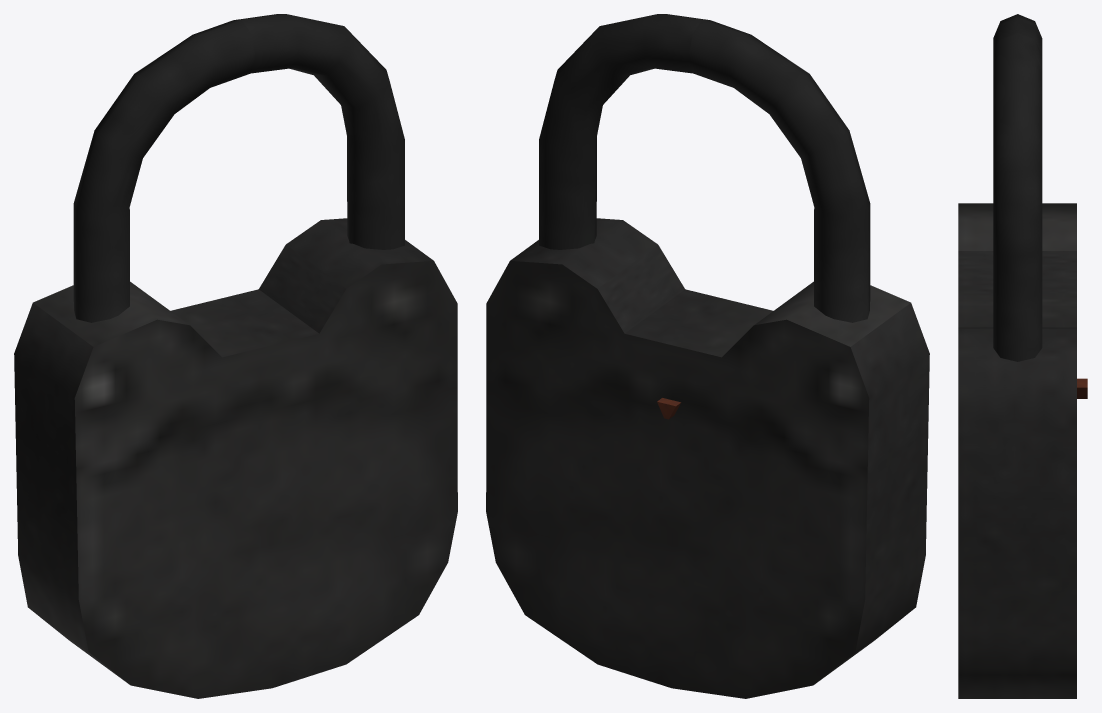
File: padlock_2.obj
The picture shows the model from 3 angles, left to right: view 1: azimuth 30°, elevation 25°; view 2: azimuth 150°, elevation 25°; view 3: azimuth 270°, elevation 25°; orthographic projection. The views are drawn at different scales.
Parts seen in each view (by area): view 1: padlock_2, padlock_2_shackle; view 2: padlock_2, padlock_2_shackle; view 3: padlock_2, padlock_2_shackle.
Part boxes in pixels (left/top/right/bottom): padlock_2: left=14, top=218, right=457, bottom=698; padlock_2_shackle: left=73, top=14, right=404, bottom=322; padlock_2: left=486, top=218, right=929, bottom=698; padlock_2_shackle: left=539, top=14, right=870, bottom=322; padlock_2: left=958, top=203, right=1087, bottom=698; padlock_2_shackle: left=993, top=14, right=1042, bottom=361.
Bounding box in the file's own units: 0.0806 × 0.1299 × 0.0241.
